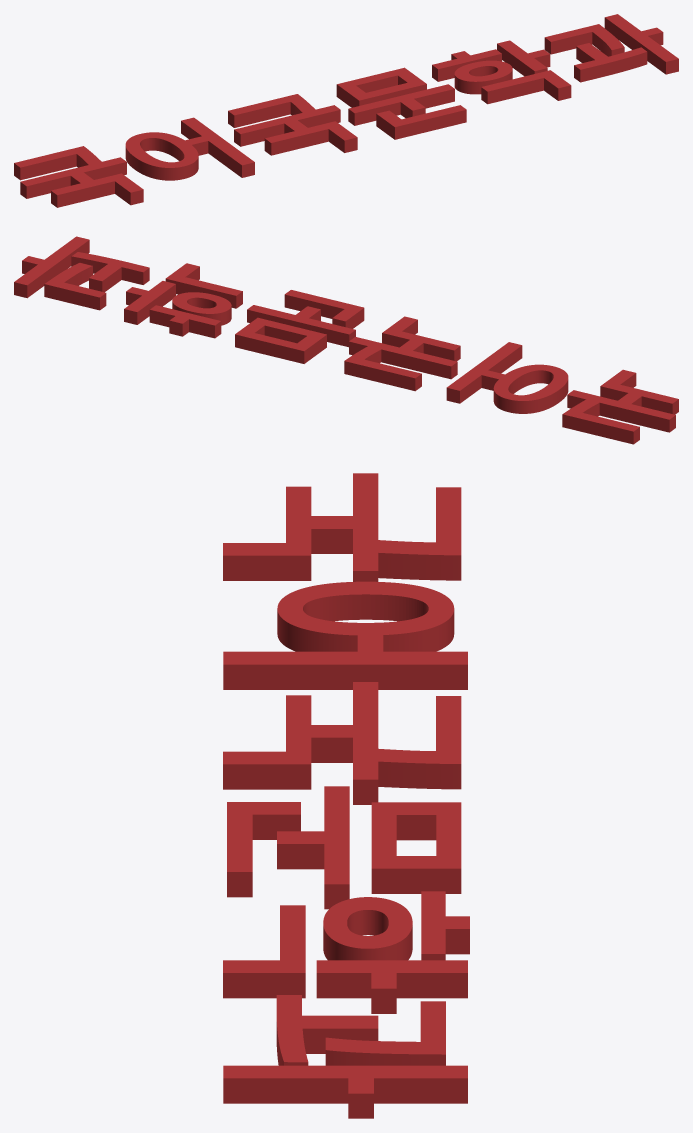
File: true7.fbx
The picture shows the model from 3 angles, top to bottom: view 1: azimuth 30°, elevation 25°; view 2: azimuth 150°, elevation 25°; view 3: azimuth 270°, elevation 25°; orthographic projection. The views are drawn at different scales.
Visible parts, largest first — view 1: Text; view 2: Text; view 3: Text.
Boxes of the visible parts, box(x1,y1,x2,y2) form: Text: box(14, 14, 678, 207); Text: box(14, 236, 678, 444); Text: box(223, 473, 469, 1118).
Size of the model in its own units: 458 by 8.71 by 77.11.
